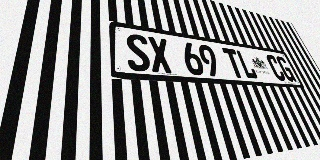6: (180, 41, 206, 76)
9: (197, 44, 222, 77)
C: (265, 54, 287, 81)
G: (275, 56, 297, 82)
L: (235, 50, 259, 79)
S: (125, 33, 152, 72)
T: (222, 48, 246, 78)
X: (147, 36, 173, 74)
